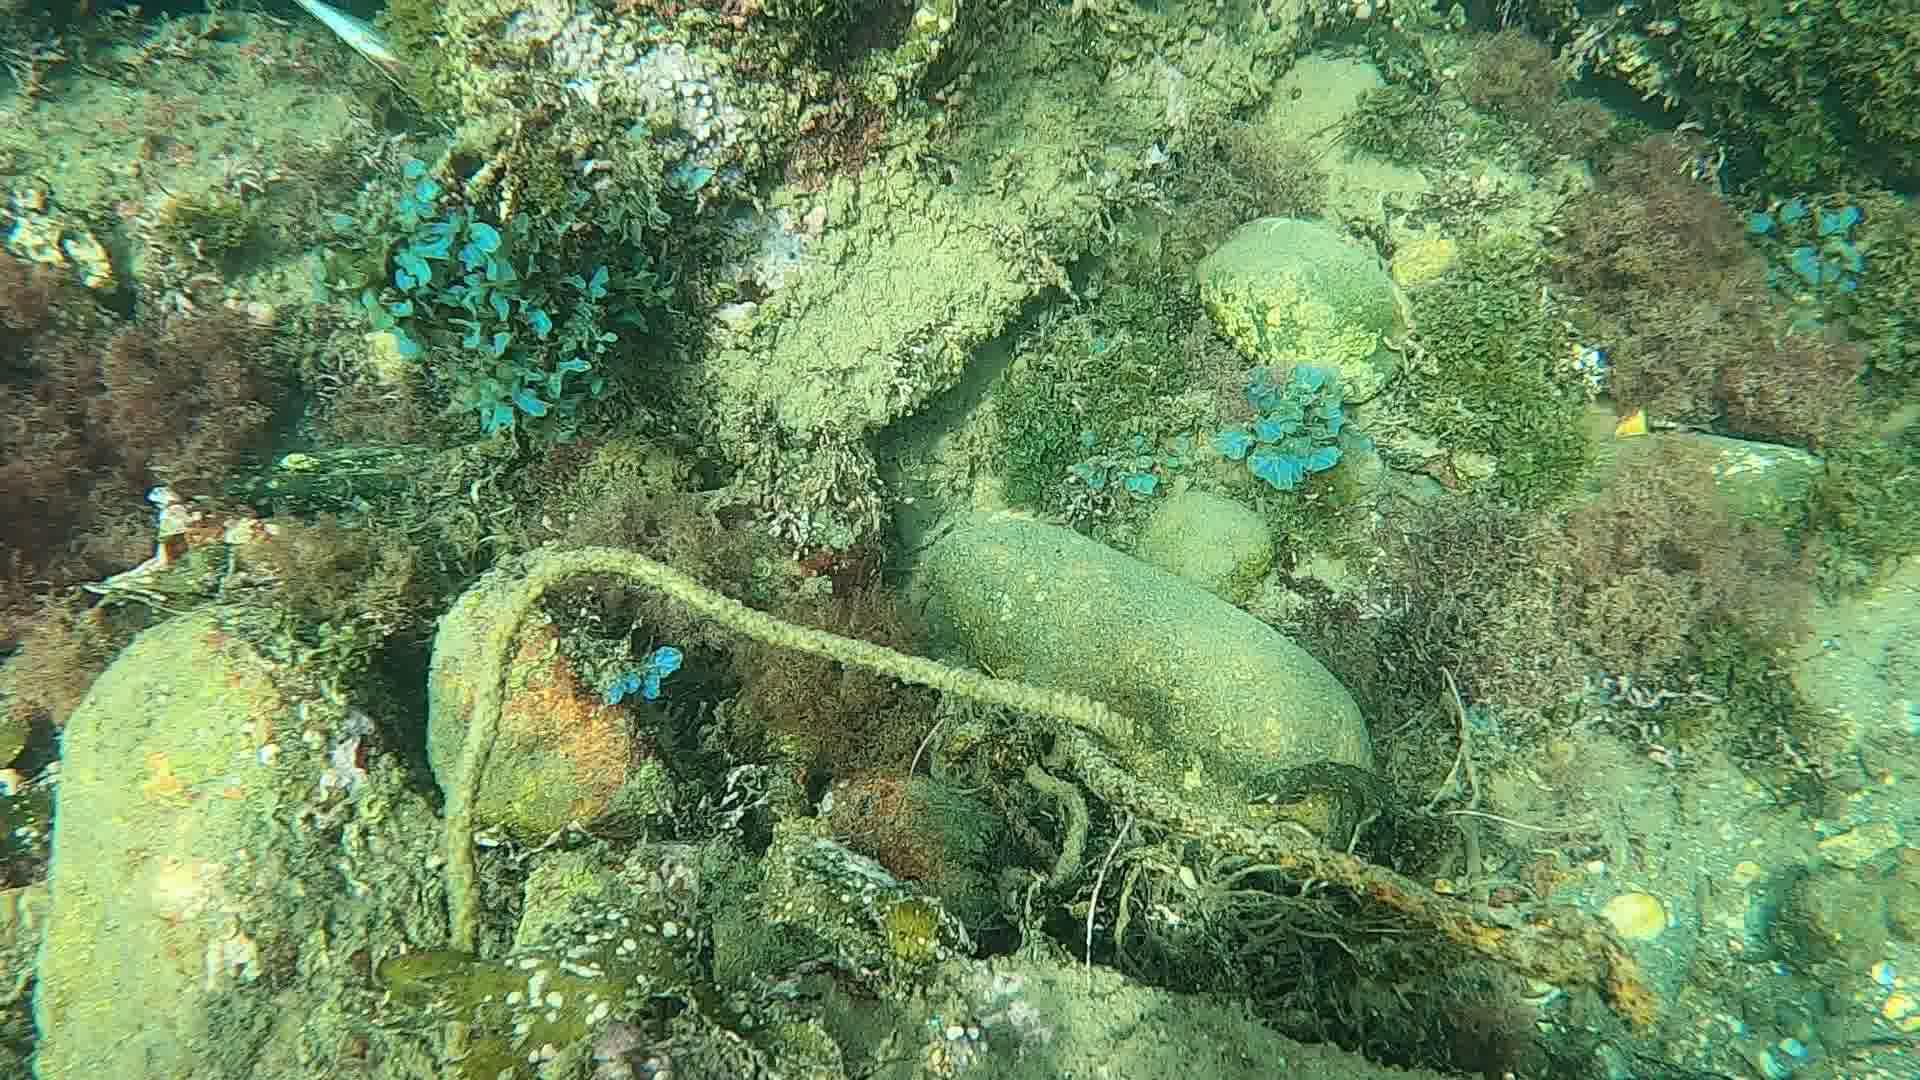bundle of ropes: (440, 545, 1617, 986)
